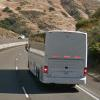Bus: (22, 23, 90, 88)
